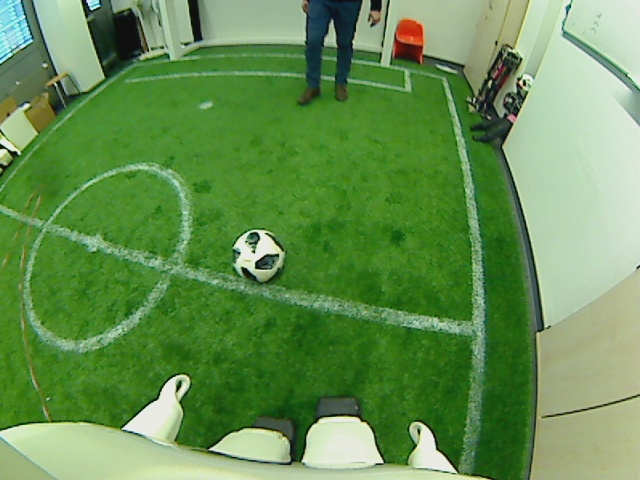ball: (230, 227, 288, 284)
